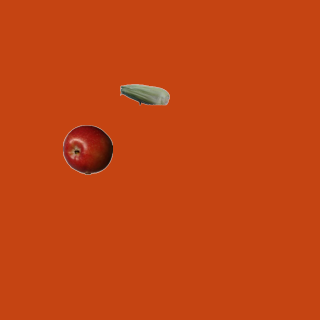Apple Braeburn: (62, 124, 112, 174)
Corn Husk: (119, 69, 169, 119)
